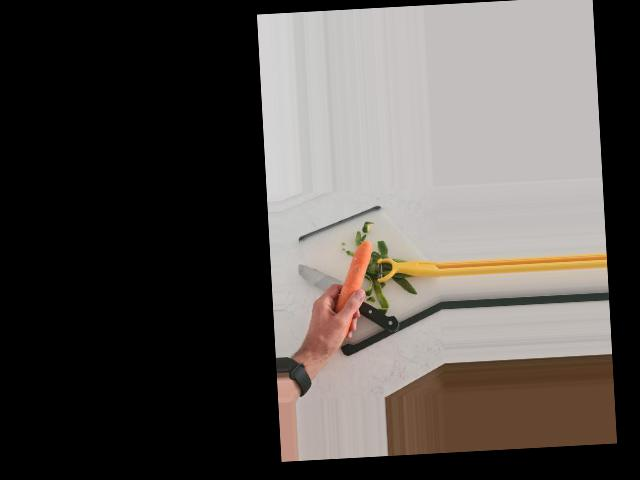carrot: (330, 241, 376, 341)
